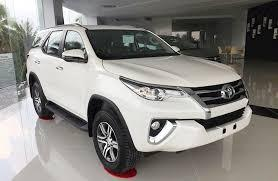toyota: (217, 81, 237, 101)
